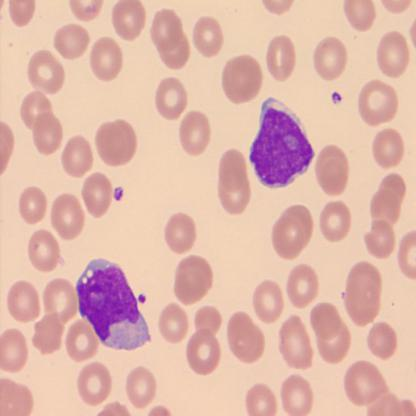Blast: (73, 254, 153, 354), (246, 95, 317, 193)
